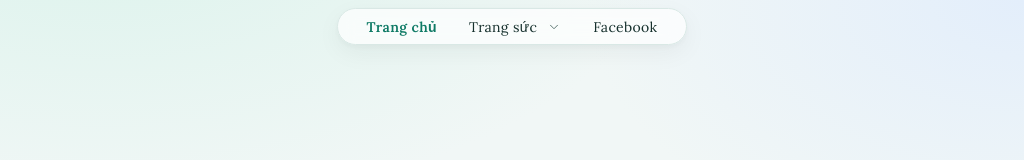
Test case: DesktopNav › mục có con: mở bằng nút, Esc đóng và trả focus về nút
The image size is (1024, 160).
Check: the link "Nhẫn" is not shown
Step 1. Click the button named "Menu con của Trang sức" → (554, 27), box [543, 16, 565, 38]
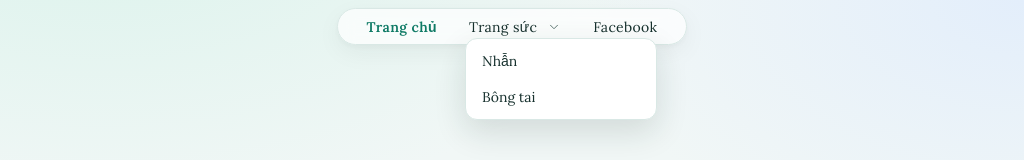
Step 2. Press Escape in the link "Nhẫn", box [482, 52, 517, 70]
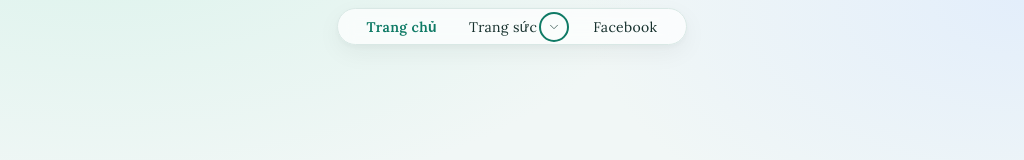
Check: the link "Nhẫn" is gone
